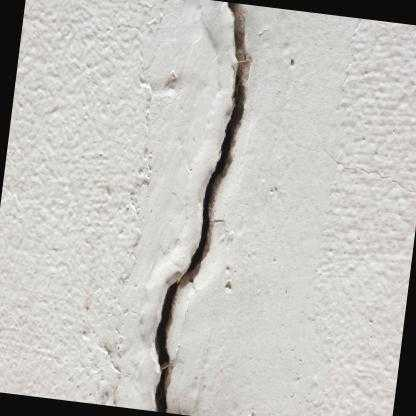crack: (153, 1, 250, 412)
